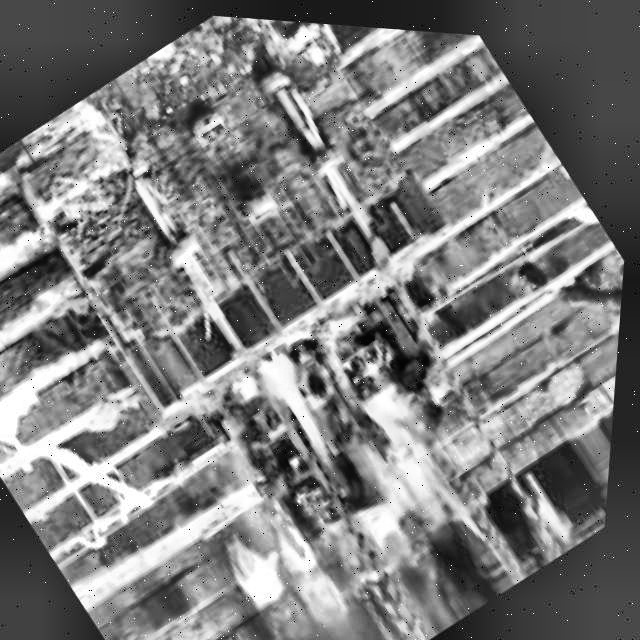Fire: (313, 359, 524, 586)
Smoke: (238, 331, 370, 477)
